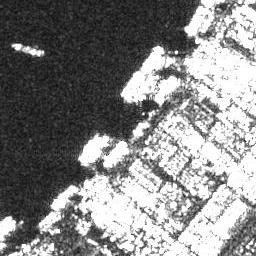ship: (73, 131, 102, 162), (46, 183, 79, 210), (116, 68, 144, 97), (185, 3, 205, 37), (9, 40, 46, 58), (141, 43, 163, 73)
